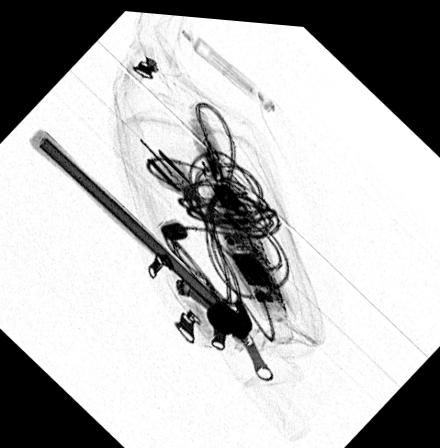Hammer: (28, 127, 252, 335)
